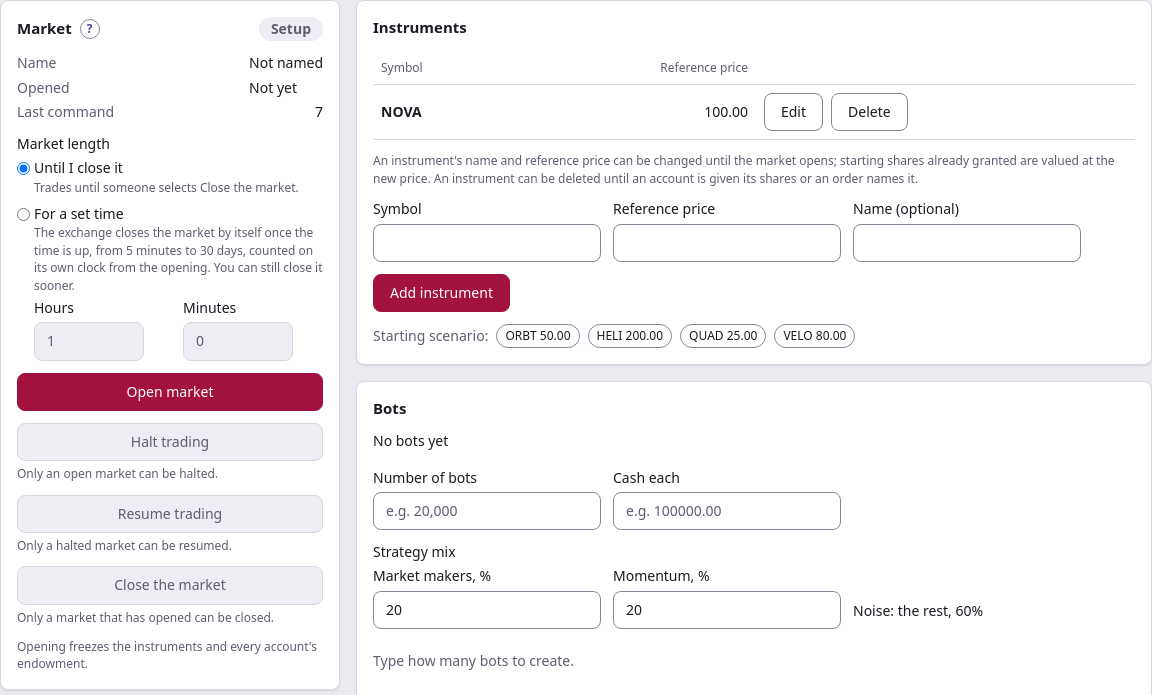
Test: the operator screen › an instrument just added › shows at once as waiting for market data, and the list is read quickly until it has it
Expected: the table named "Instruments" is shown, [373,51,1135,140]
Step 1. Click the button "ORBT 50.00" → click(538, 336), box [496,324,580,348]
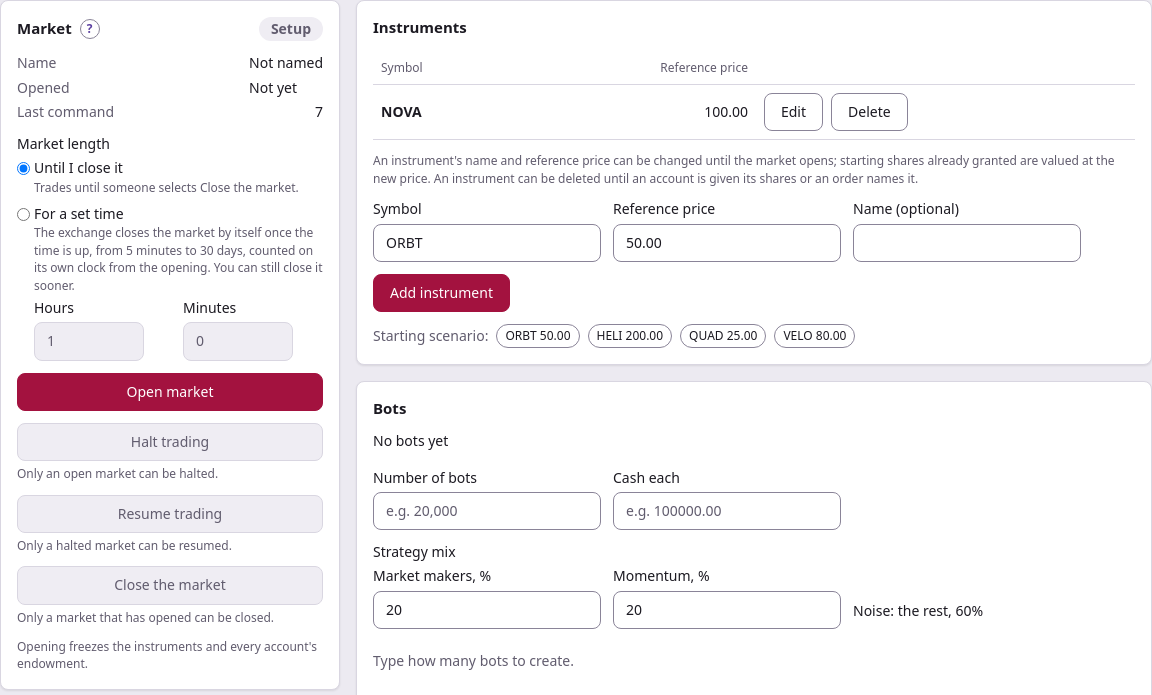
Step 2. Click the button "Add instrument" → click(442, 293), box [373,274,510,312]
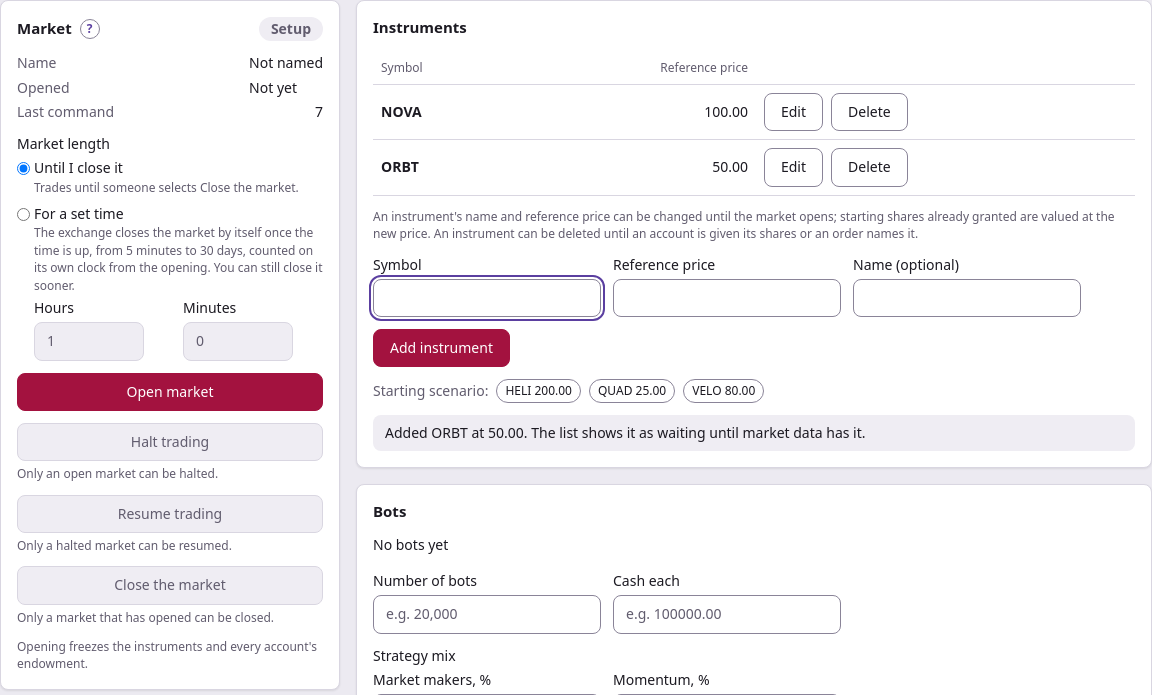
Result: the text "Added ORBT at 50.00. The list shows it as waiting until market data has it." is shown at [373,415,1135,451]
Result: the button with aria-label "Edit ORBT" is shown at [764,148,823,187]
